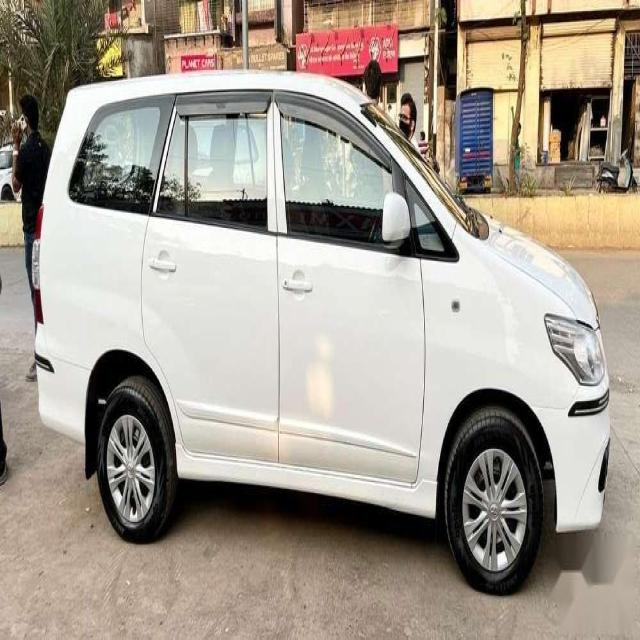light_vehicle: (33, 67, 612, 596)
